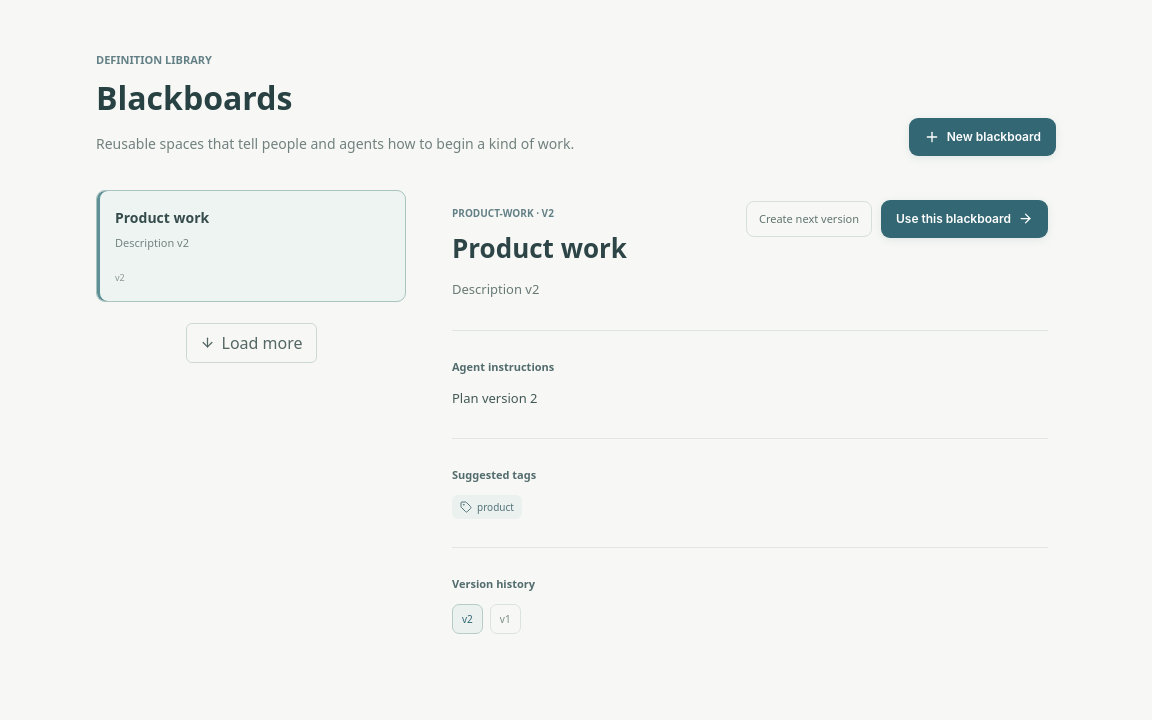
Test: Blackboard definition library › loads the next definition page on demand
Click the button "Load more": (251, 343) [186, 323, 316, 363]
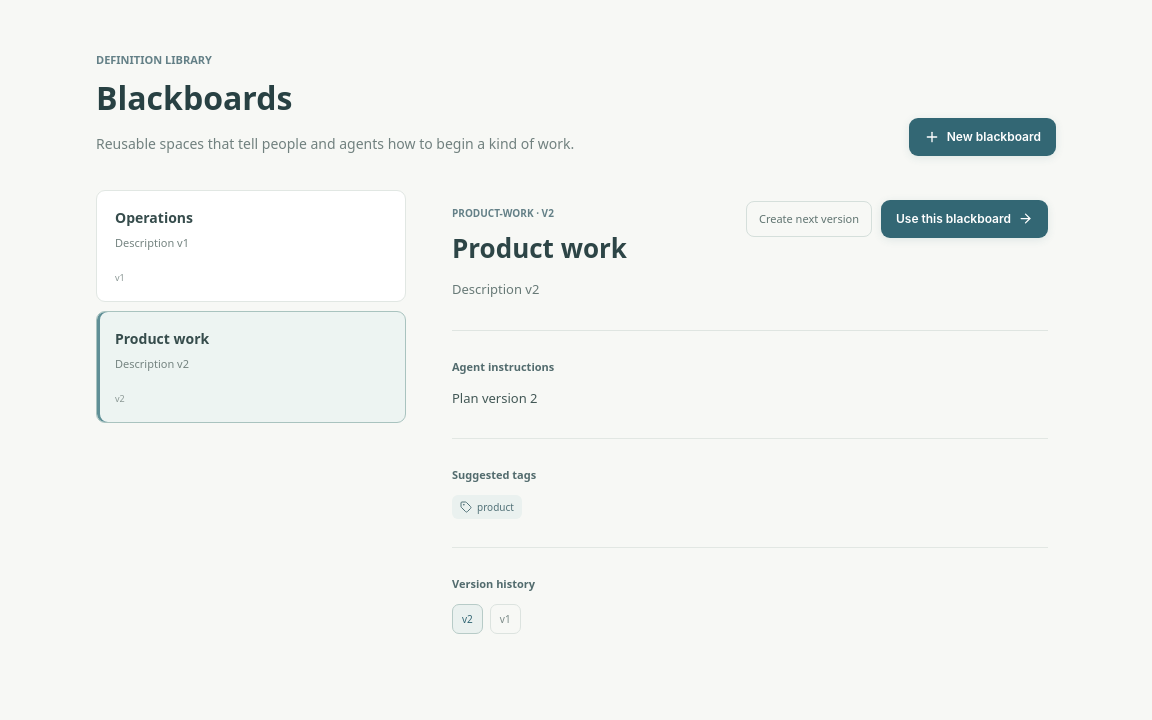
Expected: the button "Operations Description v1 v1" is shown, [96, 190, 406, 302]
Expected: the button "Load more" is gone
